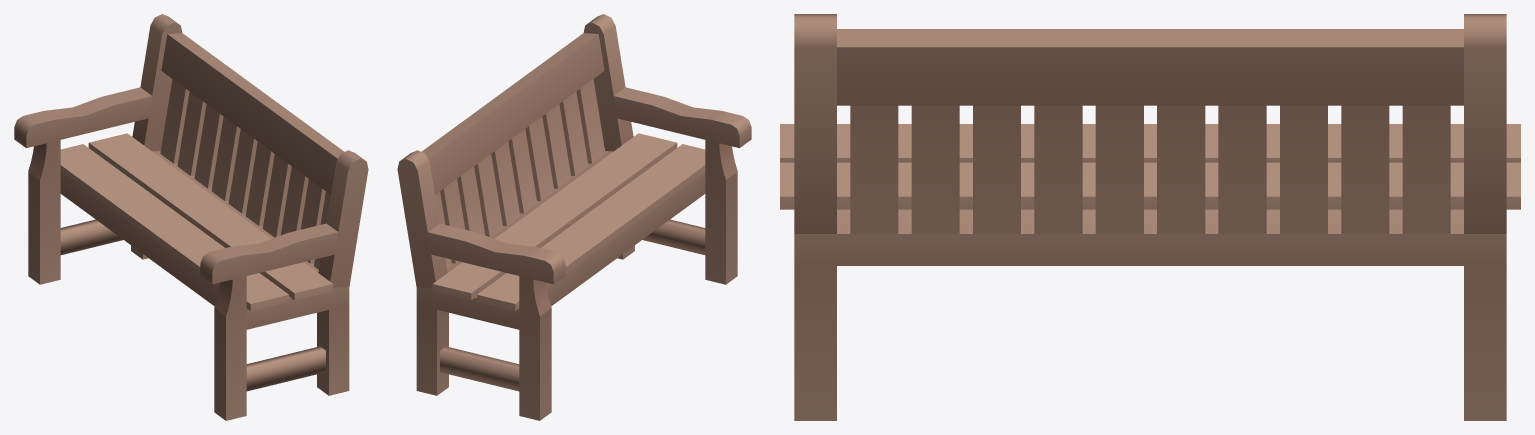
Rendered from bench-park.glb.
The picture shows the model from 3 angles, left to right: view 1: azimuth 30°, elevation 25°; view 2: azimuth 150°, elevation 25°; view 3: azimuth 270°, elevation 25°; orthographic projection. The views are drawn at different scales.
Visible parts, largest first — view 1: bench-park; view 2: bench-park; view 3: bench-park.
Part boxes in pixels (left/top/right/bottom): bench-park: left=14, top=14, right=368, bottom=420; bench-park: left=397, top=14, right=751, bottom=420; bench-park: left=780, top=14, right=1520, bottom=420.
Size of the model in its own units: 0.4556 by 0.6395 by 1.04.
